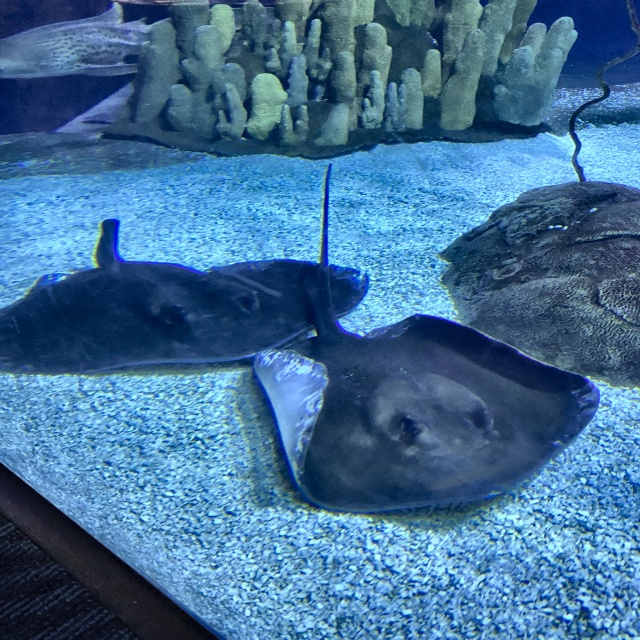shark: (0, 0, 202, 82)
stingray: (246, 313, 598, 514), (0, 259, 371, 376)
